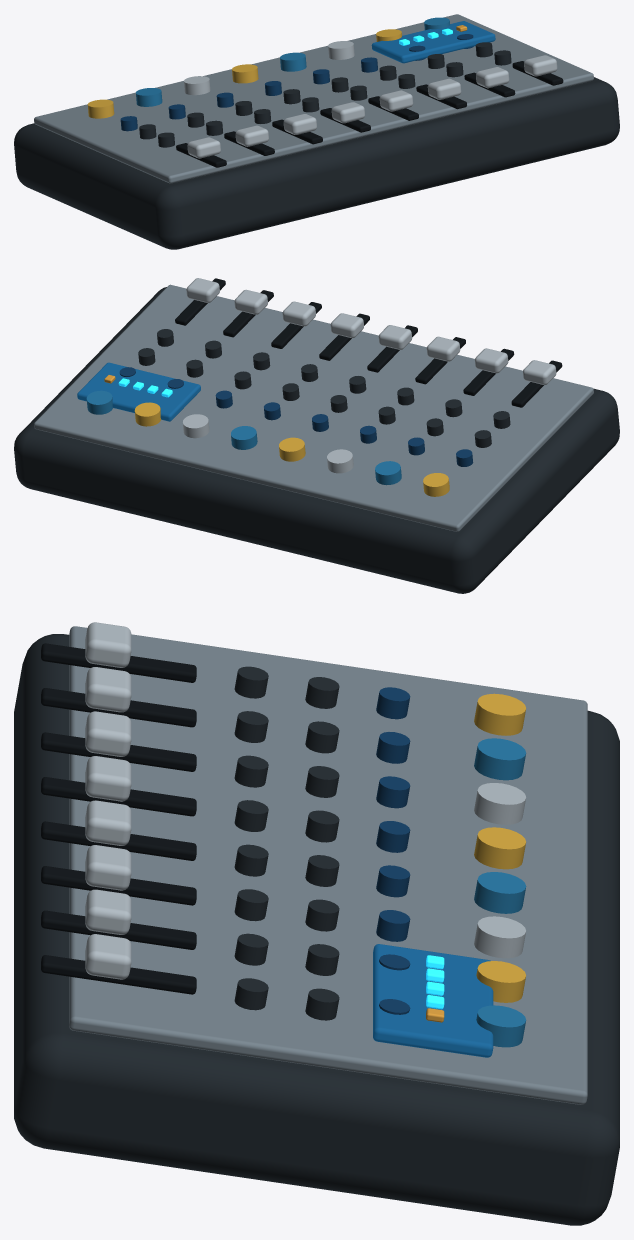
The model's file is audio-mixer.glb.
3 views of the same model, one above another, from view 1: azimuth 30°, elevation 25°; view 2: azimuth 150°, elevation 25°; view 3: azimuth 270°, elevation 25° (orthographic). The views are drawn at different scales.
Parts seen in each view (by area): view 1: Mixer console, Control surface, Channel fader (×8), Fader track (×8), Level display, Channel 4 gain, Channel 5 gain, Channel 1 gain, Channel 3 gain, Channel 2 gain, Channel 6 gain; view 2: Control surface, Mixer console, Channel fader (×8), Fader track (×8), Level display, Channel 3 gain, Channel 4 gain, Channel 6 gain, Channel 7 gain, Channel 2 gain, Channel 5 gain, Channel 1 gain (+1 smaller); view 3: Control surface, Mixer console, EQ control (×22), Fader track (×8), Channel fader (×8), Level display, Channel 6 gain, Channel 1 gain, Channel 3 gain, Channel 2 gain, Channel 4 gain, Channel 5 gain (+3 smaller).
Boxes of the visible parts, box(x1,y1,x2,y2) form: Mixer console: box(14, 77, 619, 249); Control surface: box(34, 14, 593, 183); Channel fader (×8): box(187, 55, 557, 158); Fader track (×8): box(176, 61, 563, 167); Level display: box(371, 21, 495, 63); Channel 4 gain: box(232, 64, 258, 83); Channel 5 gain: box(280, 52, 306, 71); Channel 1 gain: box(87, 99, 114, 118); Channel 3 gain: box(184, 76, 210, 95); Channel 2 gain: box(135, 88, 162, 106); Channel 6 gain: box(328, 41, 354, 59); Control surface: box(34, 284, 593, 531); Mixer console: box(14, 287, 619, 593); Channel fader (×8): box(186, 278, 556, 384); Fader track (×8): box(175, 278, 562, 407); Level display: box(77, 362, 200, 421); Channel 3 gain: box(327, 449, 353, 473); Channel 4 gain: box(279, 437, 305, 461); Channel 6 gain: box(183, 414, 209, 438); Channel 7 gain: box(134, 402, 161, 426); Channel 2 gain: box(375, 461, 401, 485); Channel 5 gain: box(231, 426, 257, 449); Channel 1 gain: box(423, 473, 449, 496); Control surface: box(69, 626, 587, 1104); Mixer console: box(14, 634, 619, 1225); EQ control (×22): box(234, 666, 410, 1020); Fader track (×8): box(41, 643, 196, 994); Channel fader (×8): box(85, 622, 131, 979); Level display: box(373, 944, 493, 1057); Channel 6 gain: box(474, 916, 526, 958); Channel 1 gain: box(474, 693, 526, 735); Channel 3 gain: box(474, 783, 526, 824); Channel 2 gain: box(474, 738, 526, 780); Channel 4 gain: box(474, 827, 526, 869); Channel 5 gain: box(474, 872, 526, 913).
Size of the model in its own units: 2.25 by 0.5859 by 1.35.
